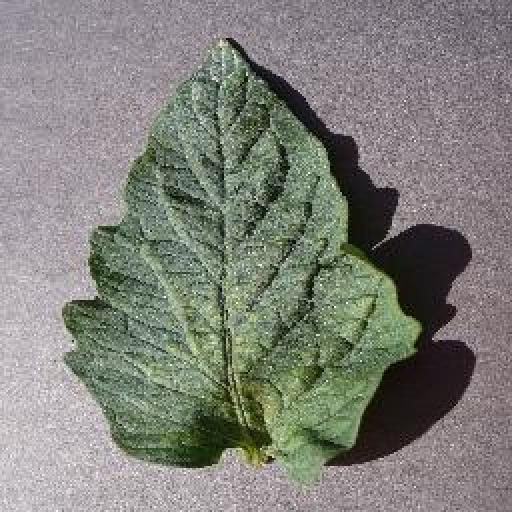disease_tomato: (64, 34, 421, 486)
